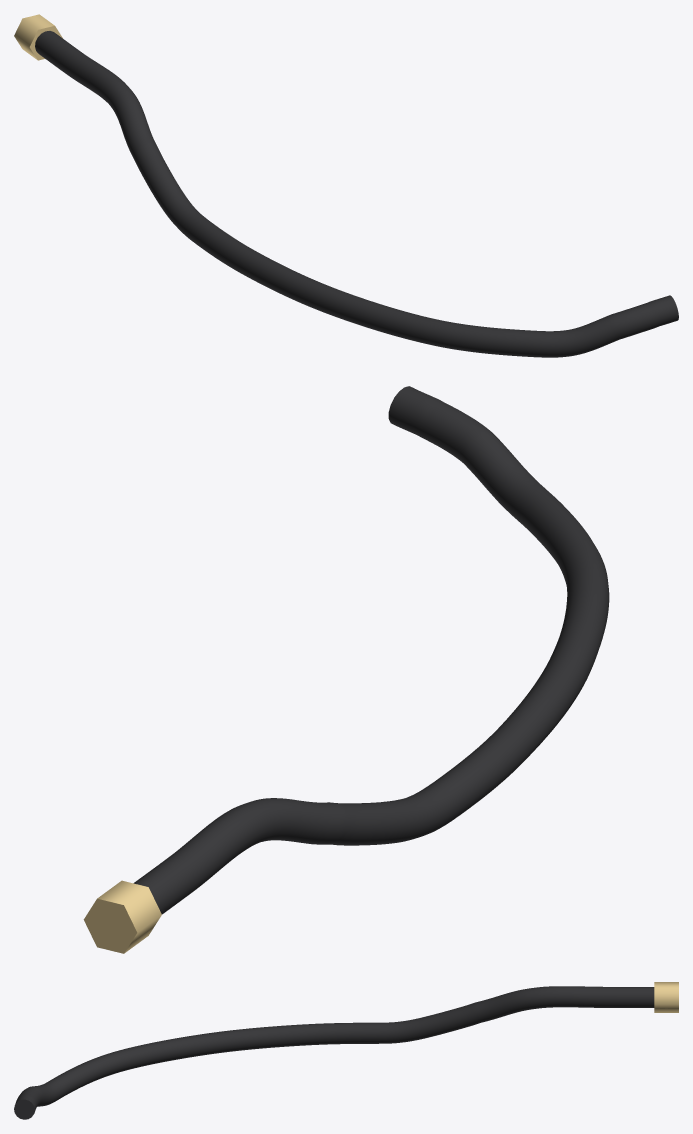
Rendered from steering-cable-egoist.glb.
The picture shows the model from 3 angles, top to bottom: view 1: azimuth 30°, elevation 25°; view 2: azimuth 150°, elevation 25°; view 3: azimuth 270°, elevation 25°; orthographic projection. The views are drawn at different scales.
Parts seen in each view (by area): view 1: xs_steering_cable_egoist, xs_steering_nut_egoist; view 2: xs_steering_cable_egoist, xs_steering_nut_egoist; view 3: xs_steering_cable_egoist, xs_steering_nut_egoist.
Boxes of the visible parts, left/top/right/bottom form: xs_steering_cable_egoist: left=35, top=31, right=678, bottom=357; xs_steering_nut_egoist: left=14, top=14, right=62, bottom=60; xs_steering_cable_egoist: left=133, top=386, right=609, bottom=914; xs_steering_nut_egoist: left=83, top=880, right=161, bottom=953; xs_steering_cable_egoist: left=14, top=986, right=654, bottom=1119; xs_steering_nut_egoist: left=654, top=982, right=678, bottom=1012.
Bounding box in the file's own units: 0.171 × 0.0511 × 0.4716.
